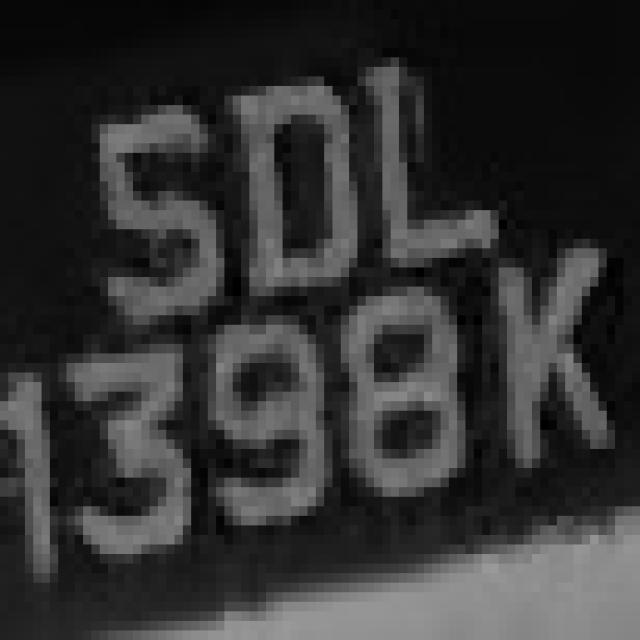1: (1, 359, 56, 592)
3: (50, 334, 208, 573)
8: (324, 248, 466, 516)
9: (216, 315, 333, 583)
D: (225, 48, 358, 315)
K: (482, 248, 640, 516)
L: (357, 57, 507, 277)
S: (66, 86, 200, 334)
